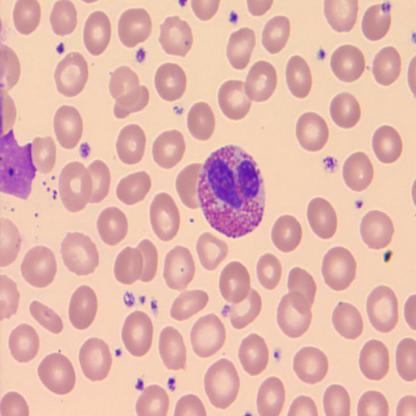Eosinophil: (197, 143, 265, 238)
